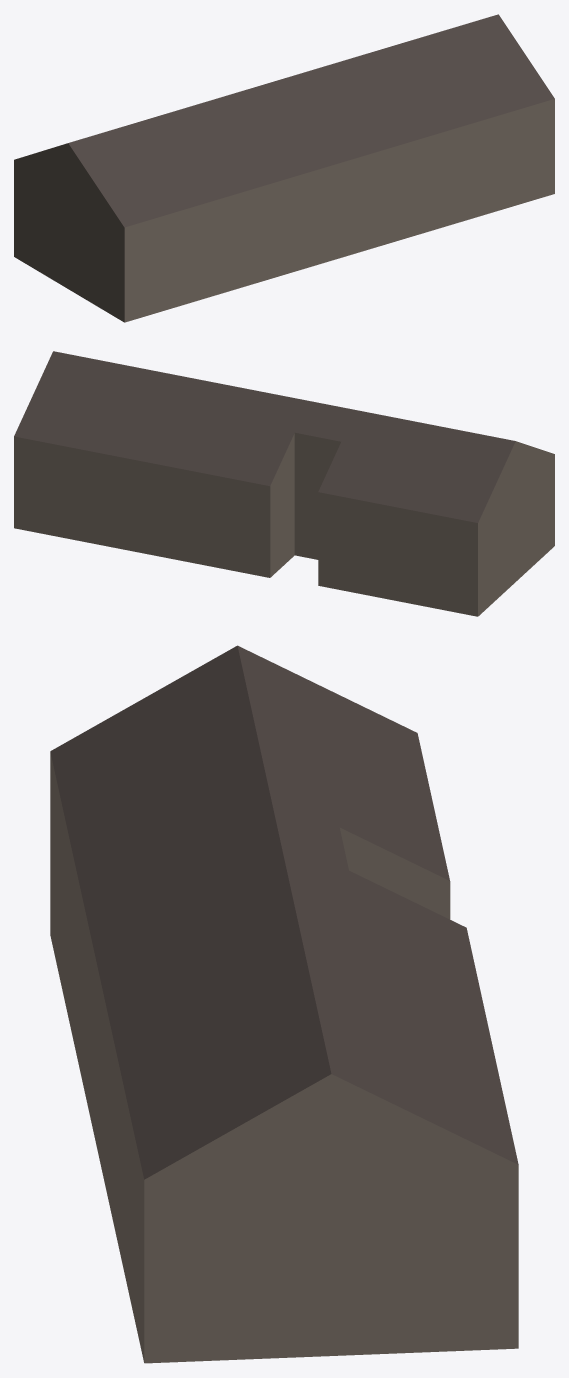
3 views of the same model, one above another, from view 1: azimuth 30°, elevation 25°; view 2: azimuth 150°, elevation 25°; view 3: azimuth 270°, elevation 25° (orthographic). The views are drawn at different scales.
Visible parts, largest first — view 1: HP-w1376988733; view 2: HP-w1376988733; view 3: HP-w1376988733.
Part boxes in pixels (box(x1,y1,x2,y2)): HP-w1376988733: box(14, 14, 554, 322); HP-w1376988733: box(14, 351, 554, 616); HP-w1376988733: box(50, 645, 518, 1363).
Size of the model in its own units: 31.04 by 9.21 by 13.87.
